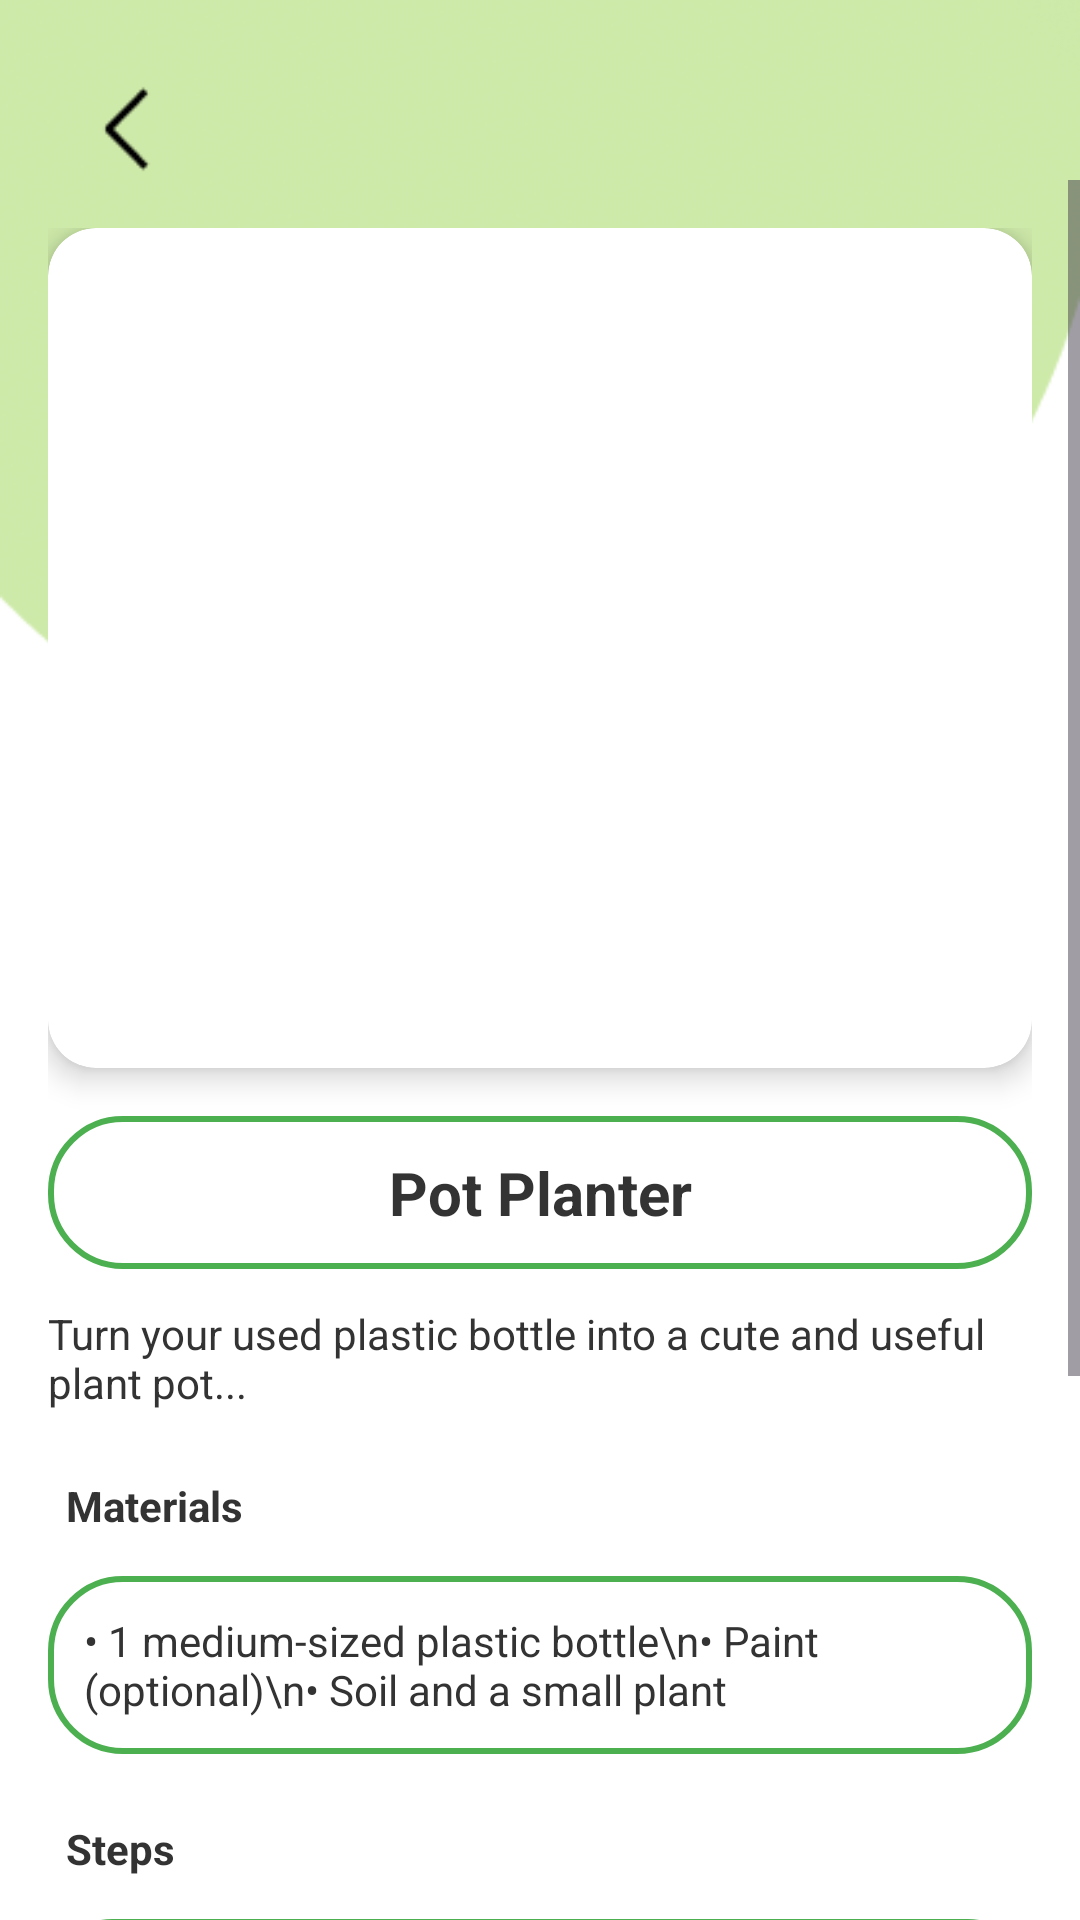

Where icons sit on this 1080 x 1920 app screen, as (x1, y1, x2, y2):
Back: (104, 87, 148, 171)
